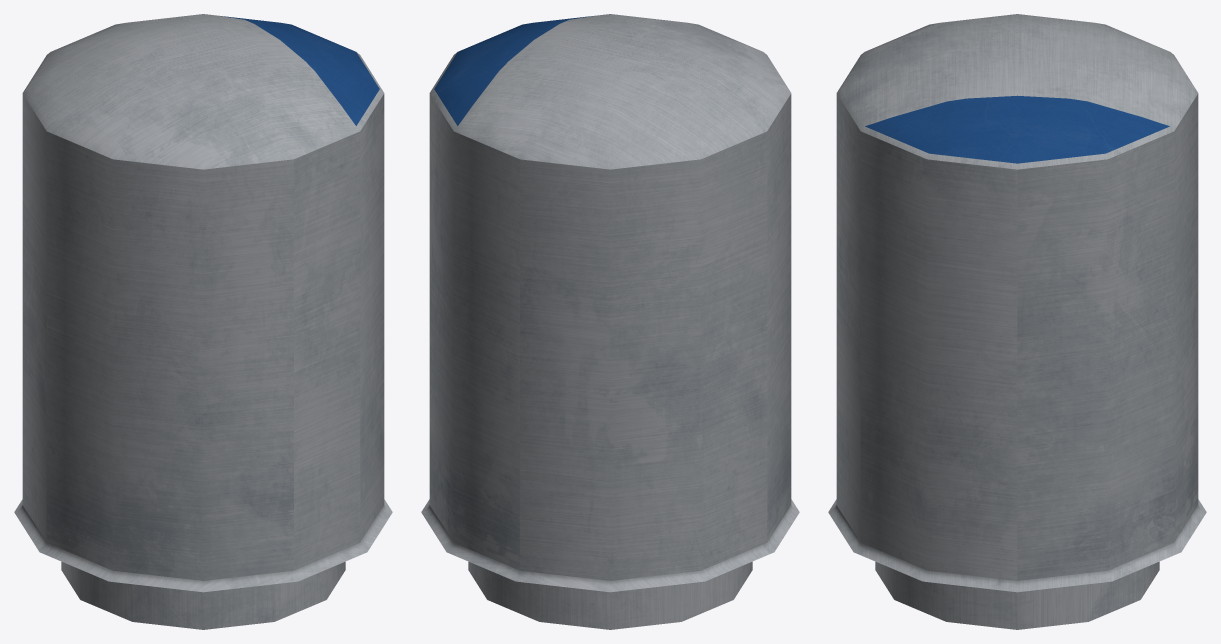
File: GPUCapacitor.fbx
3 renders of one model, left to right at view 1: azimuth 30°, elevation 25°; view 2: azimuth 150°, elevation 25°; view 3: azimuth 270°, elevation 25°, orthographic.
Parts seen in each view (by area): view 1: GPUCapacitor; view 2: GPUCapacitor; view 3: GPUCapacitor.
Part boxes in pixels (box(x1,y1,x2,y2)): GPUCapacitor: box(14, 14, 392, 629); GPUCapacitor: box(421, 14, 799, 629); GPUCapacitor: box(828, 14, 1206, 629).
Bounding box in the file's own units: 8.67 × 13.07 × 8.67.
